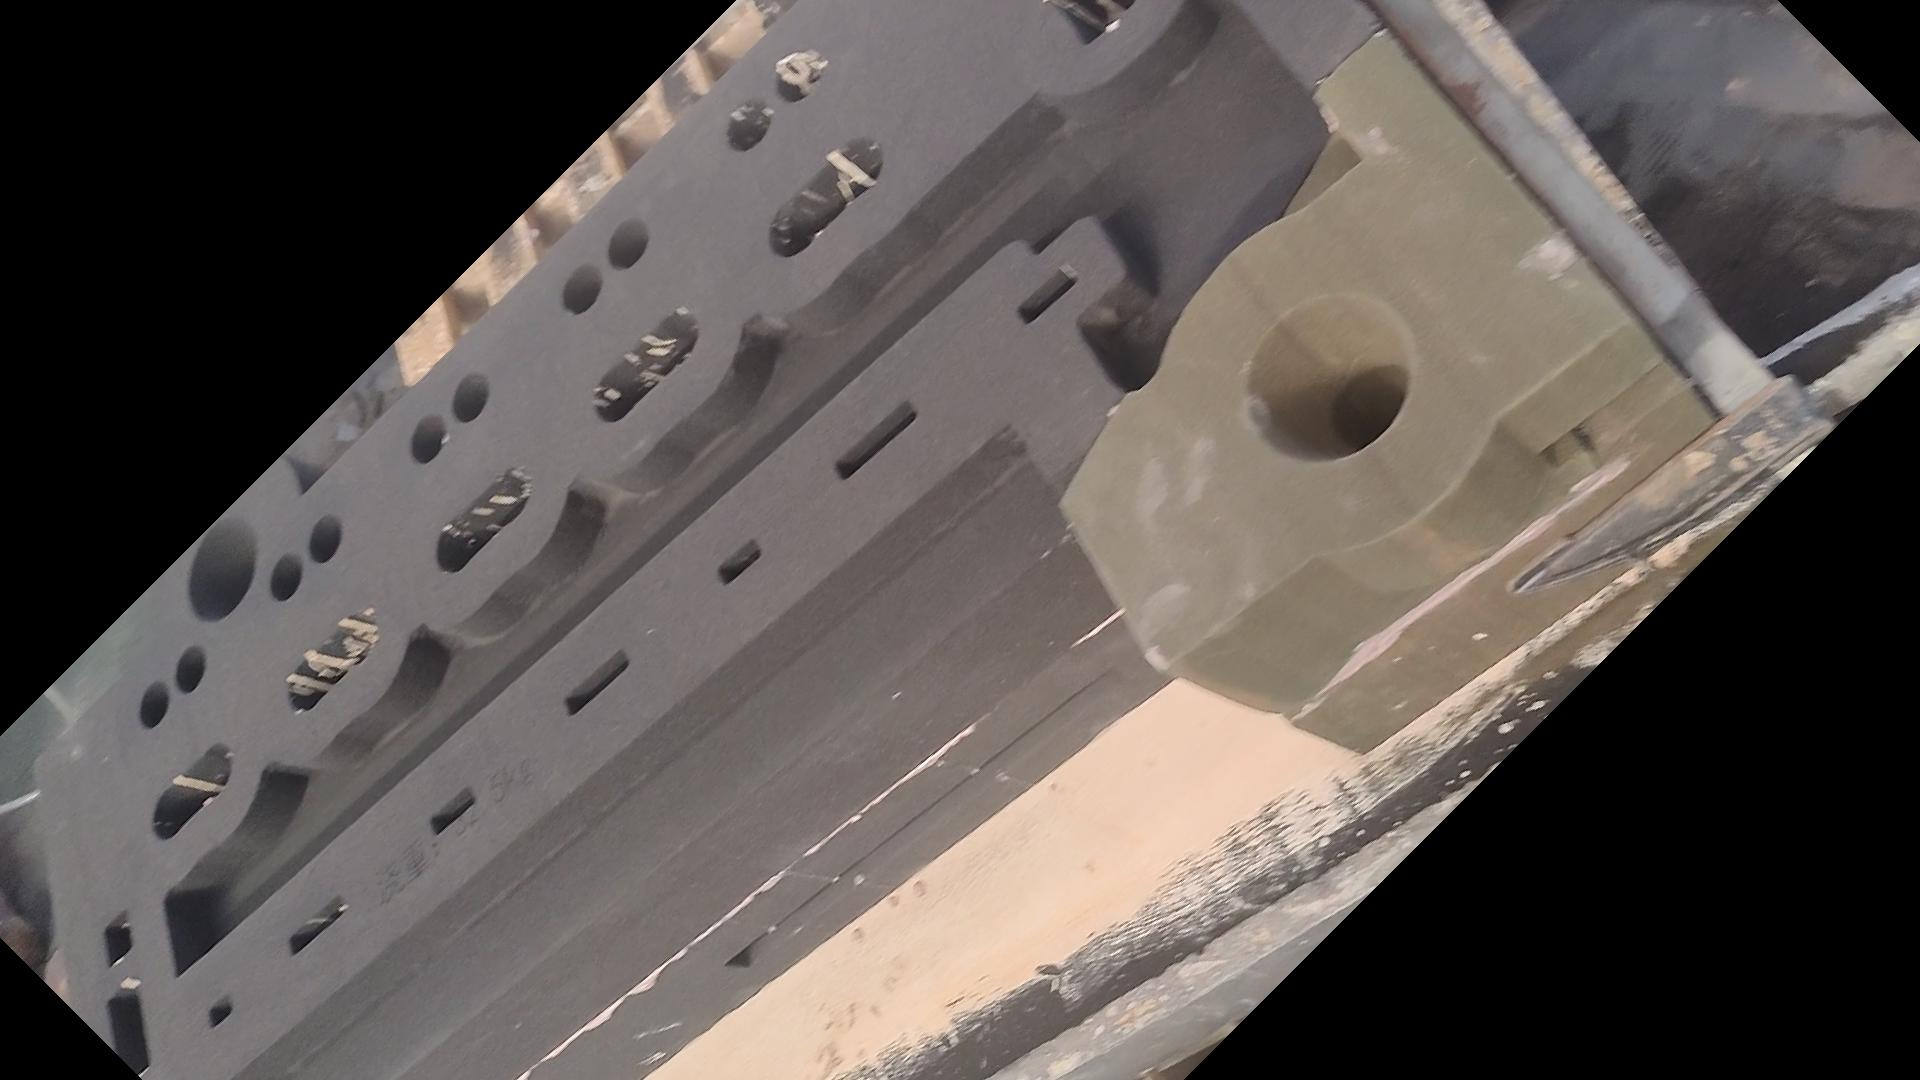pouring hole: (1244, 289, 1414, 465), (187, 520, 257, 622)
